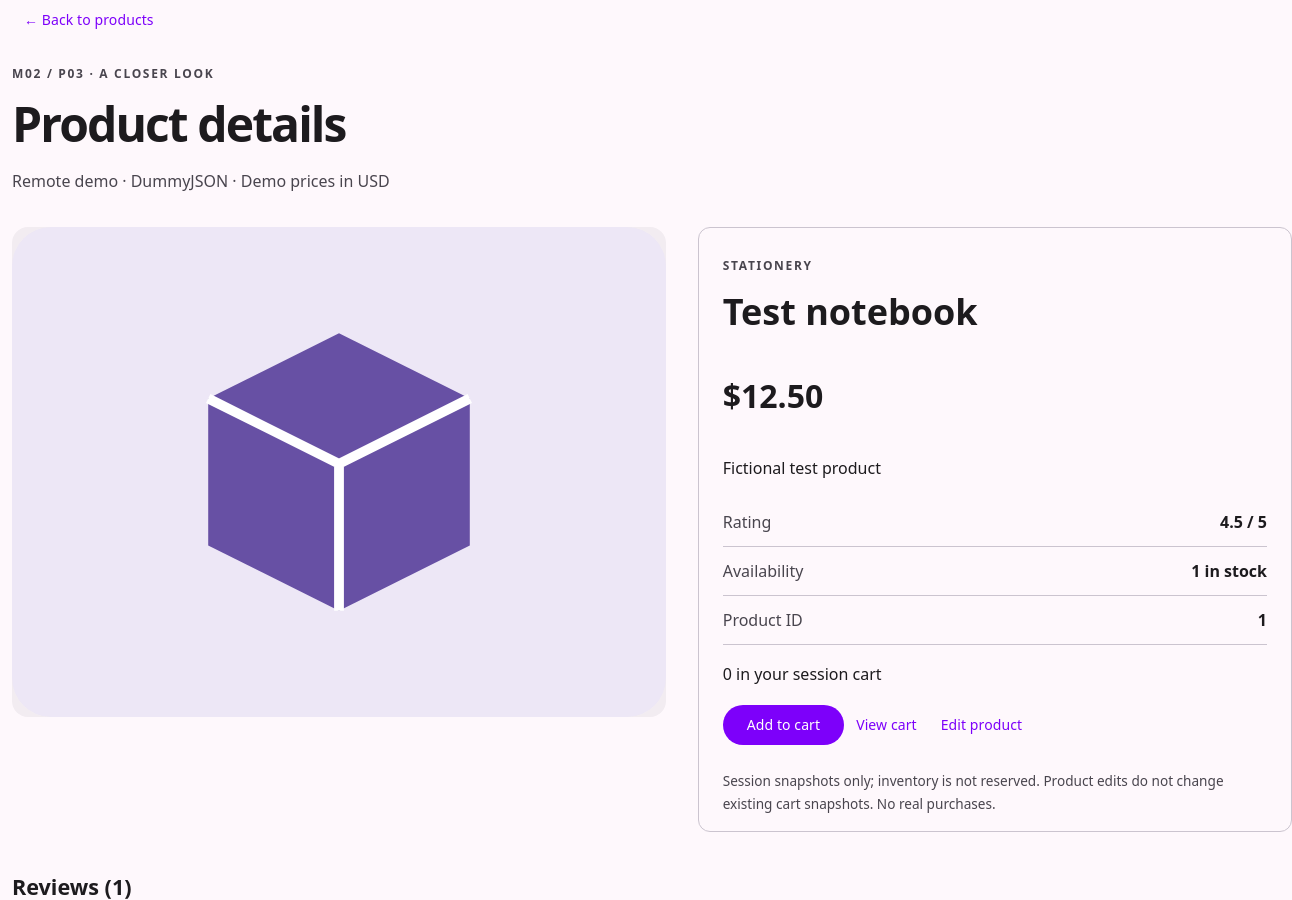
Test: Product detail › adds a loaded detail once up to stock and shares it with the cart route
Click the button "MatButtonHarness" at (783, 724), box [723,704,844,744]
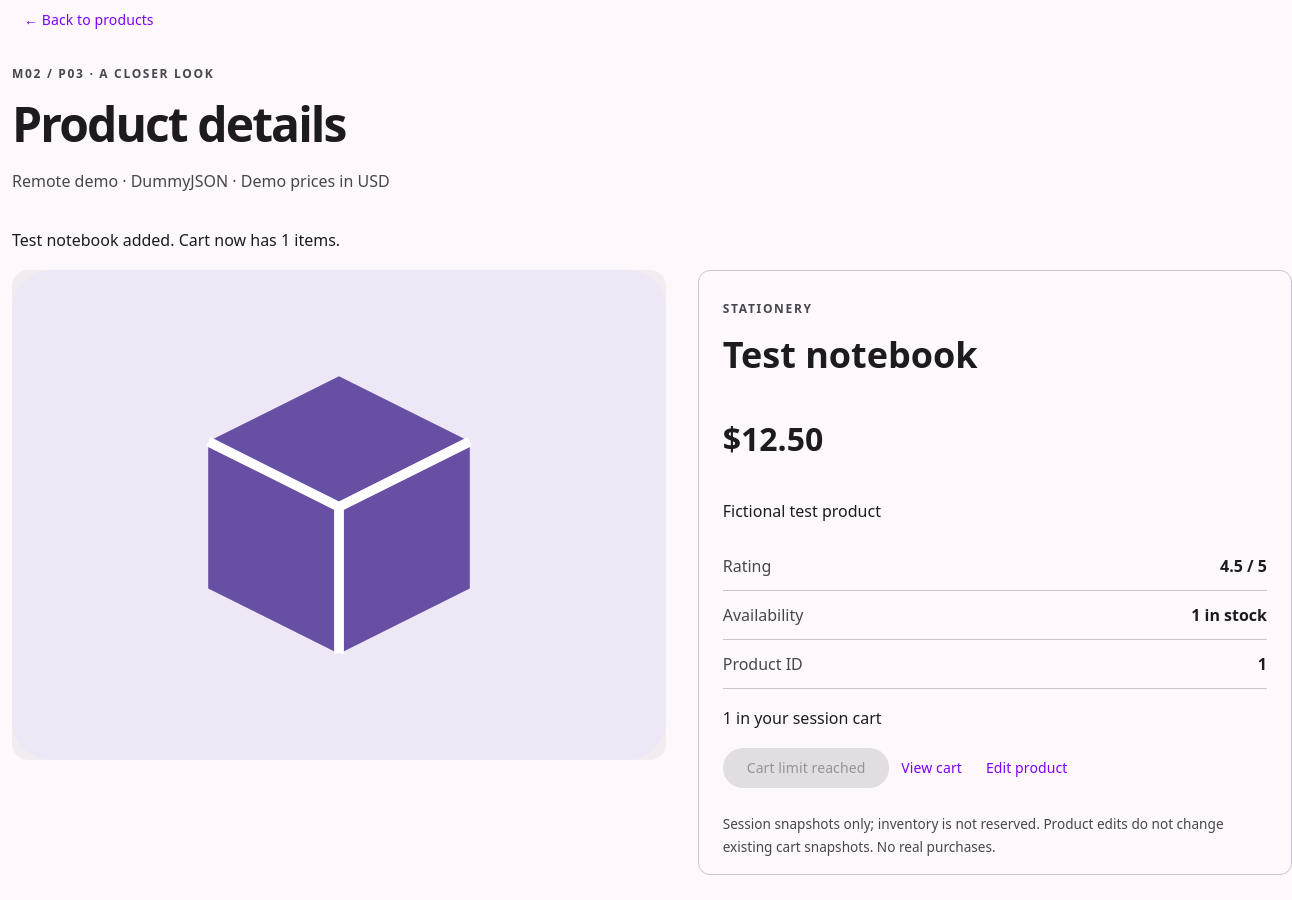
Now the button "MatButtonHarness" is disabled, box [723,748,889,788]
